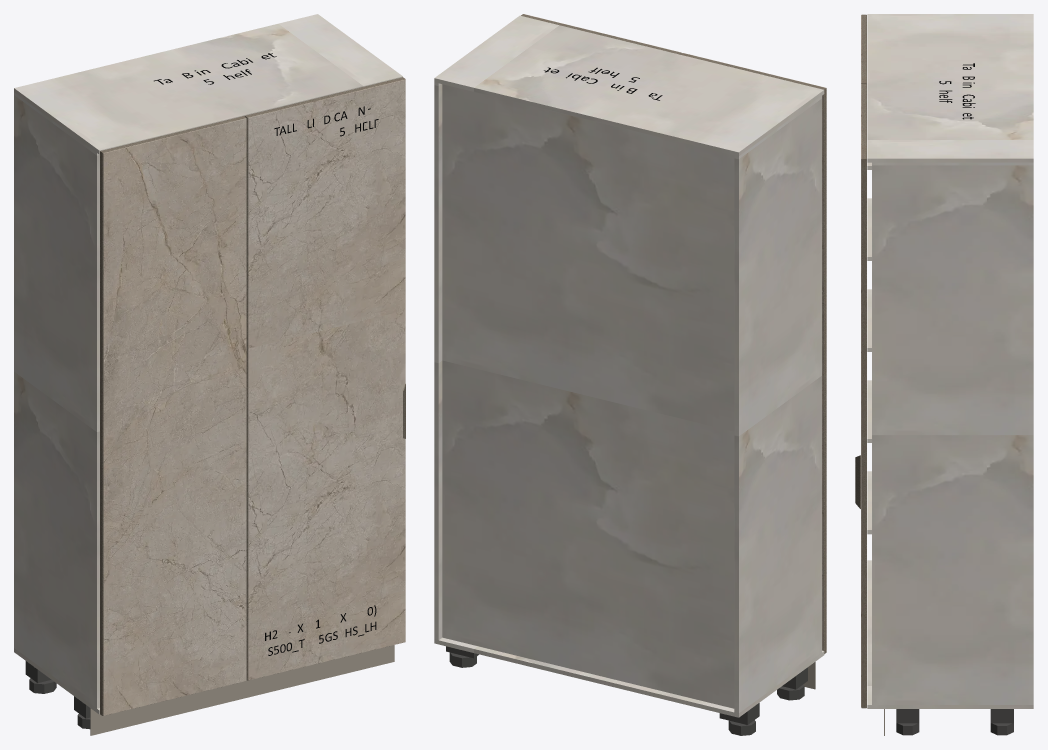
The model's file is TALL BLIND CABINET 5 L-SHELF (H2040XW1150XD560) S500_TBC5LS1HS_LH.glb.
3 renders of one model, left to right at view 1: azimuth 30°, elevation 25°; view 2: azimuth 150°, elevation 25°; view 3: azimuth 270°, elevation 25°, orthographic. The views are drawn at different scales.
Size of what is drawn, in the model's own units: 1.15 by 2.15 by 0.5999.
6 materials, 3 textured.
